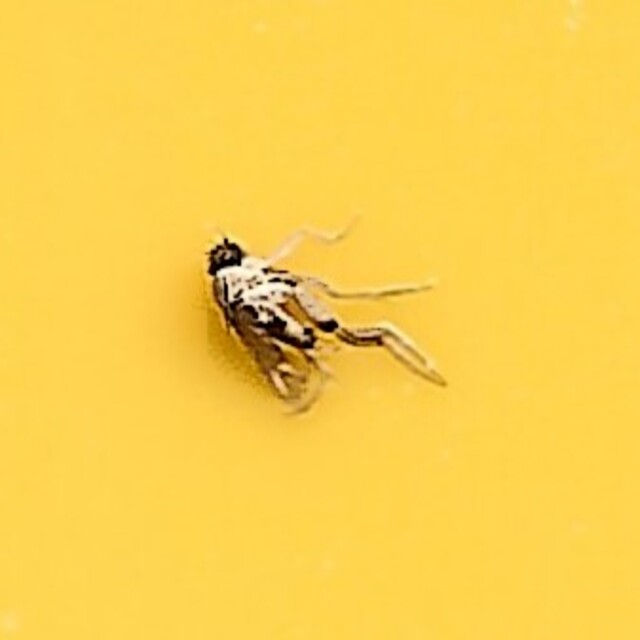Brachycera: (190, 229, 450, 411)
